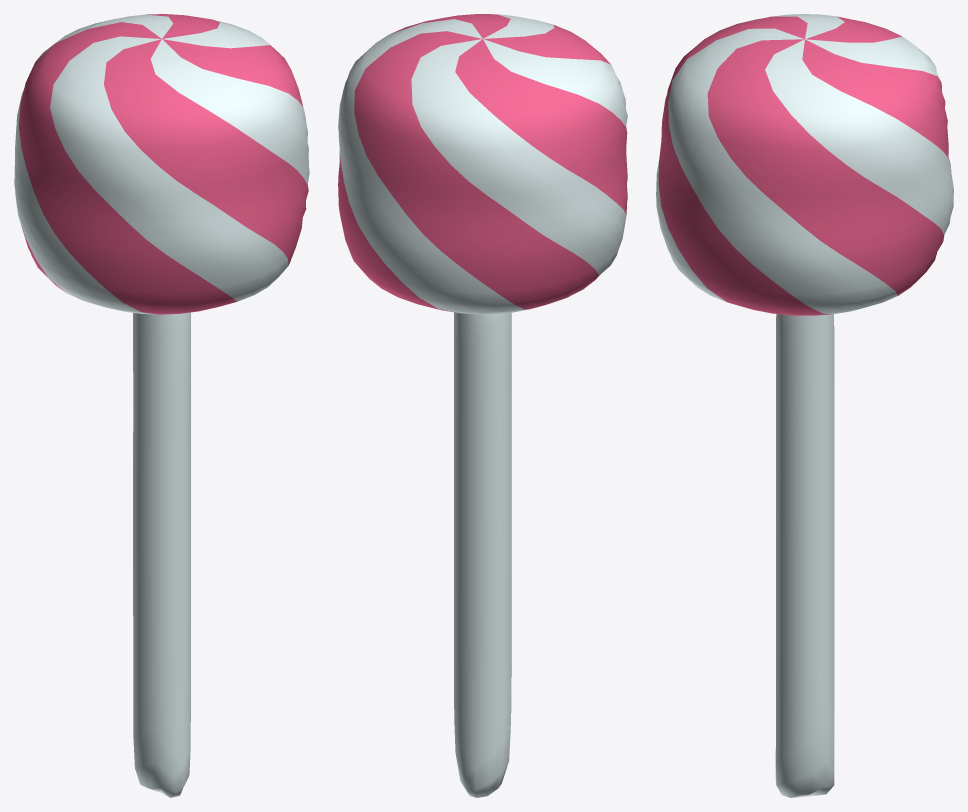
File: Lollipop_C_03.fbx
3 views of the same model, side by side, from view 1: azimuth 30°, elevation 25°; view 2: azimuth 150°, elevation 25°; view 3: azimuth 270°, elevation 25° (orthographic).
Visible parts, largest first — view 1: Lollipop_C_03_LOD0; view 2: Lollipop_C_03_LOD0; view 3: Lollipop_C_03_LOD0.
Boxes of the visible parts, left/top/right/bottom form: Lollipop_C_03_LOD0: left=14, top=14, right=309, bottom=797; Lollipop_C_03_LOD0: left=338, top=14, right=627, bottom=797; Lollipop_C_03_LOD0: left=656, top=14, right=953, bottom=797.
Size of what is drawn, in the model's own units: 375 by 1052 by 375.
